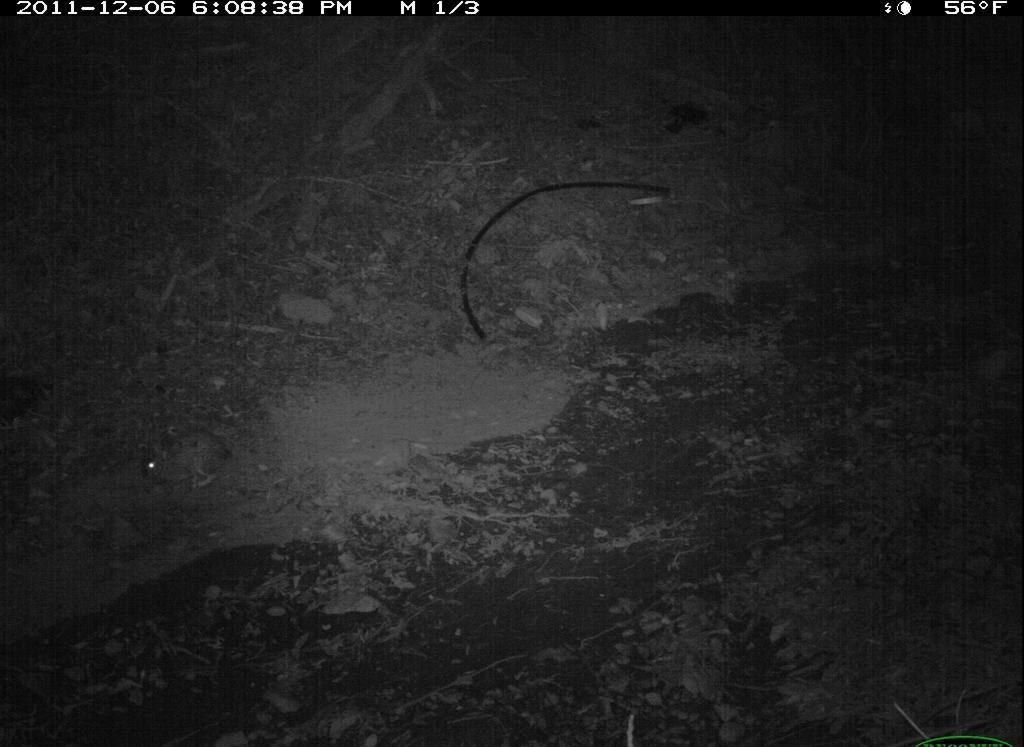rabbit: (131, 420, 237, 495)
